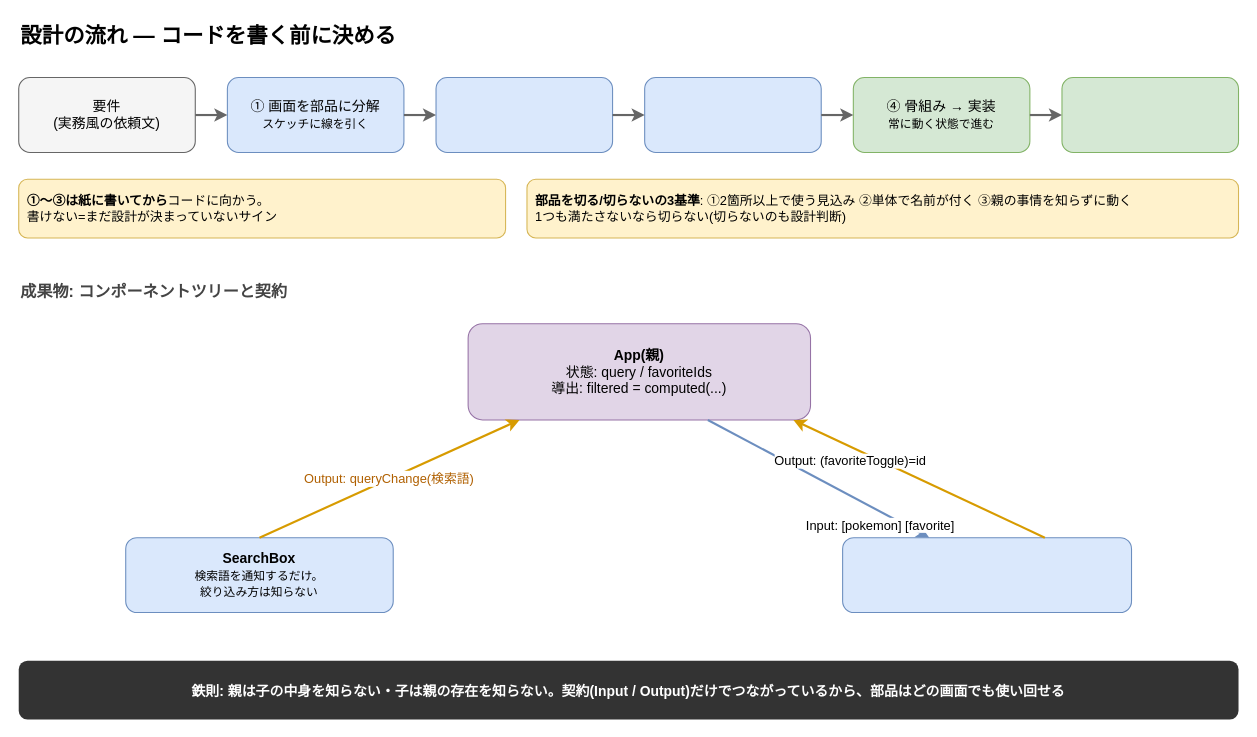
Some shapes in this 1257 by 737 pixel diagram are drawn without their labels. The shapes that lost their labels are listed below. From the top down, each one's centre as x and y in pixels, then its label:
the point at 524,114: ② 契約を決める Input / Output だけ
the point at 732,114: ③ 状態の置き場所 誰が持つ? 導出できる?
the point at 1150,114: ⑤ 保存して ブラウザで確認
the point at 987,575: PokemonCard × N 表示と通知だけ。 お気に入り一覧は持たない
